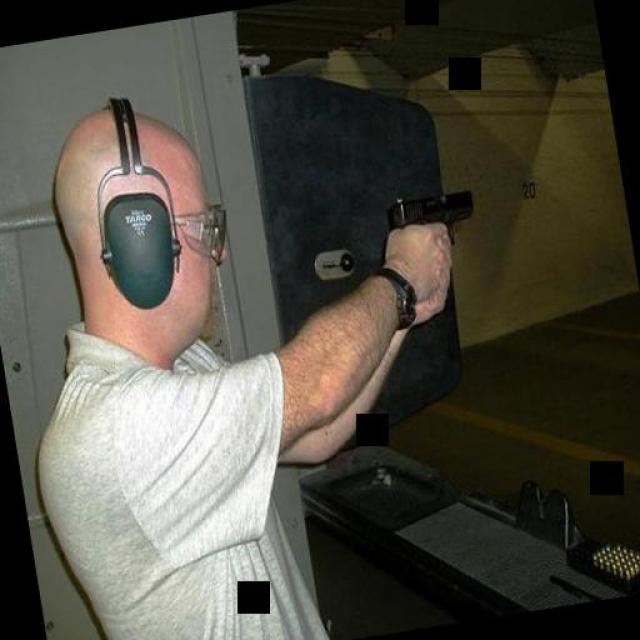gun: (380, 181, 479, 255)
